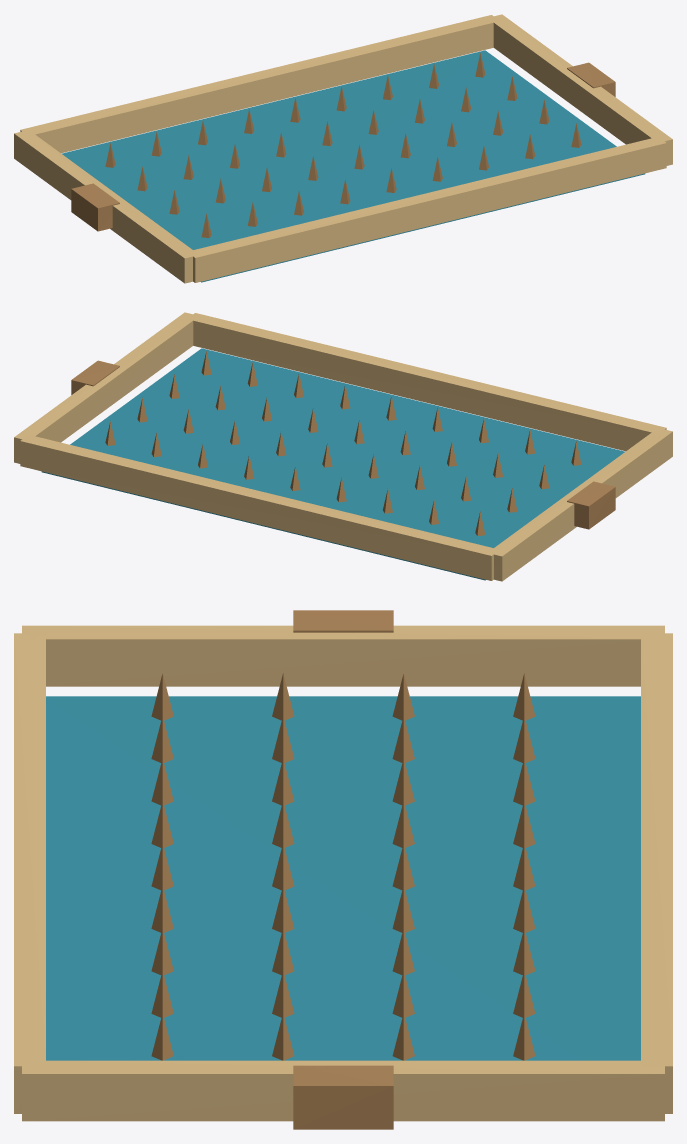
Rendered from Rice-Paddy.glb.
3 renders of one model, top to bottom at view 1: azimuth 30°, elevation 25°; view 2: azimuth 150°, elevation 25°; view 3: azimuth 270°, elevation 25°, orthographic. The views are drawn at different scales.
Parts seen in each view (by area): view 1: wind-pump-static-rice-paddy-water-mat, wind-pump-static-rice-paddy-earth-mat, wind-pump-static-rice-paddy-shoot-mat, wind-pump-static-rice-paddy-gate-mat; view 2: wind-pump-static-rice-paddy-water-mat, wind-pump-static-rice-paddy-earth-mat, wind-pump-static-rice-paddy-shoot-mat, wind-pump-static-rice-paddy-gate-mat; view 3: wind-pump-static-rice-paddy-water-mat, wind-pump-static-rice-paddy-earth-mat, wind-pump-static-rice-paddy-shoot-mat, wind-pump-static-rice-paddy-gate-mat.
Boxes of the visible parts, x1=… form: wind-pump-static-rice-paddy-water-mat: x1=62, y1=50, x2=645, y2=282; wind-pump-static-rice-paddy-earth-mat: x1=14, y1=14, x2=672, y2=283; wind-pump-static-rice-paddy-shoot-mat: x1=105, y1=53, x2=581, y2=238; wind-pump-static-rice-paddy-gate-mat: x1=71, y1=62, x2=615, y2=231; wind-pump-static-rice-paddy-water-mat: x1=41, y1=348, x2=624, y2=580; wind-pump-static-rice-paddy-earth-mat: x1=14, y1=312, x2=672, y2=581; wind-pump-static-rice-paddy-shoot-mat: x1=105, y1=351, x2=581, y2=536; wind-pump-static-rice-paddy-gate-mat: x1=71, y1=360, x2=615, y2=529; wind-pump-static-rice-paddy-water-mat: x1=46, y1=696, x2=640, y2=1060; wind-pump-static-rice-paddy-earth-mat: x1=14, y1=625, x2=672, y2=1121; wind-pump-static-rice-paddy-shoot-mat: x1=151, y1=673, x2=535, y2=1060; wind-pump-static-rice-paddy-gate-mat: x1=293, y1=610, x2=393, y2=1129.
Bounding box in the file's own units: 2.8 × 0.1925 × 1.64.
